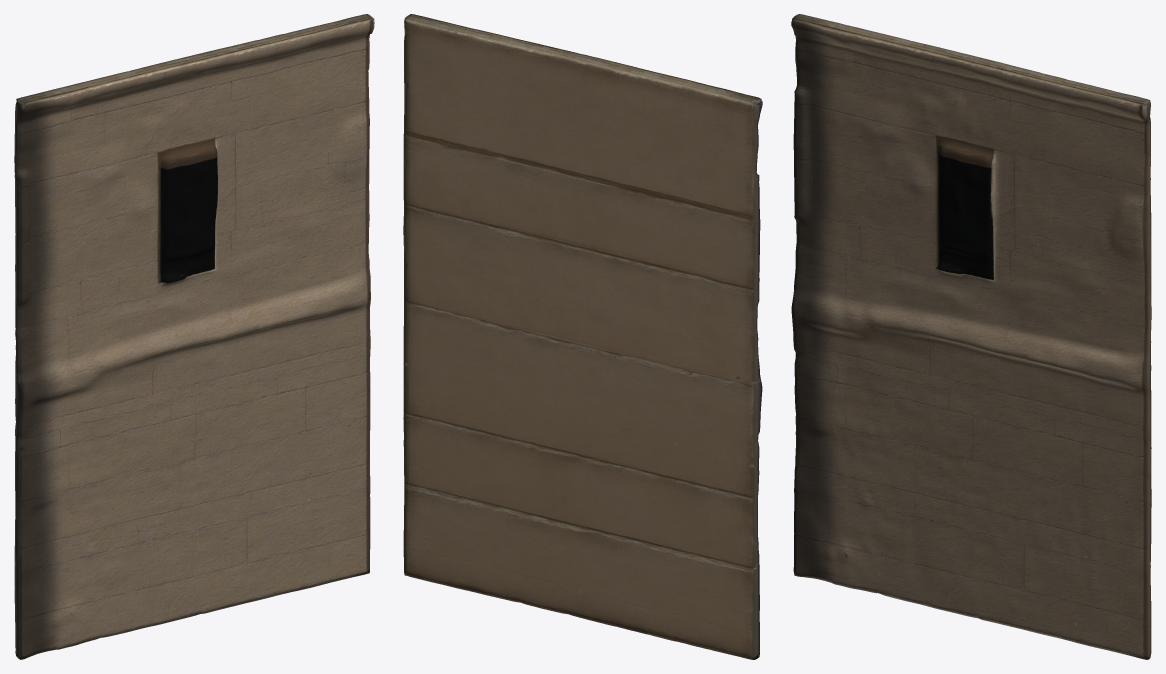
File: wall2.glb
3 renders of one model, left to right at view 1: azimuth 30°, elevation 25°; view 2: azimuth 150°, elevation 25°; view 3: azimuth 330°, elevation 25°, orthographic.
Size of the model in its own units: 1.33 by 2 by 0.0573.
Materials: 1 (1 with a texture image).
